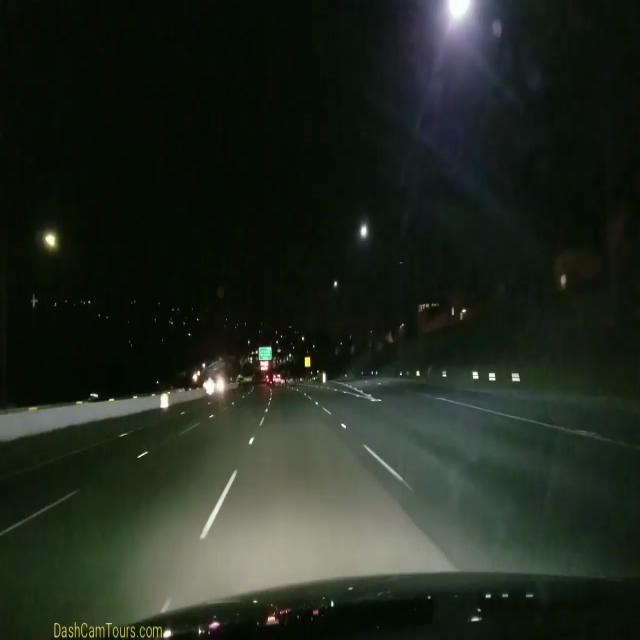street-signs: (258, 346, 272, 360)
